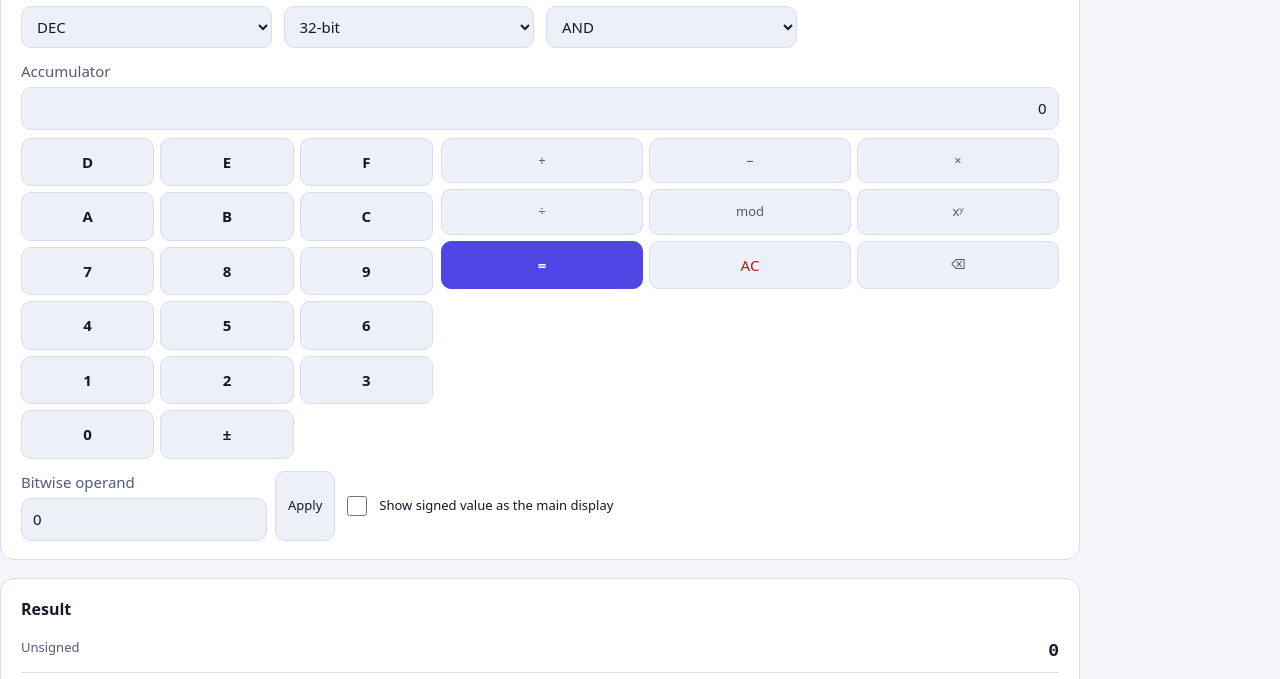
Test: programmer panel › switches the input base so hex digits can be typed
Select "HEX" in the dropdown labelled "Input base" at (146, 26), box [21,6,272,48]
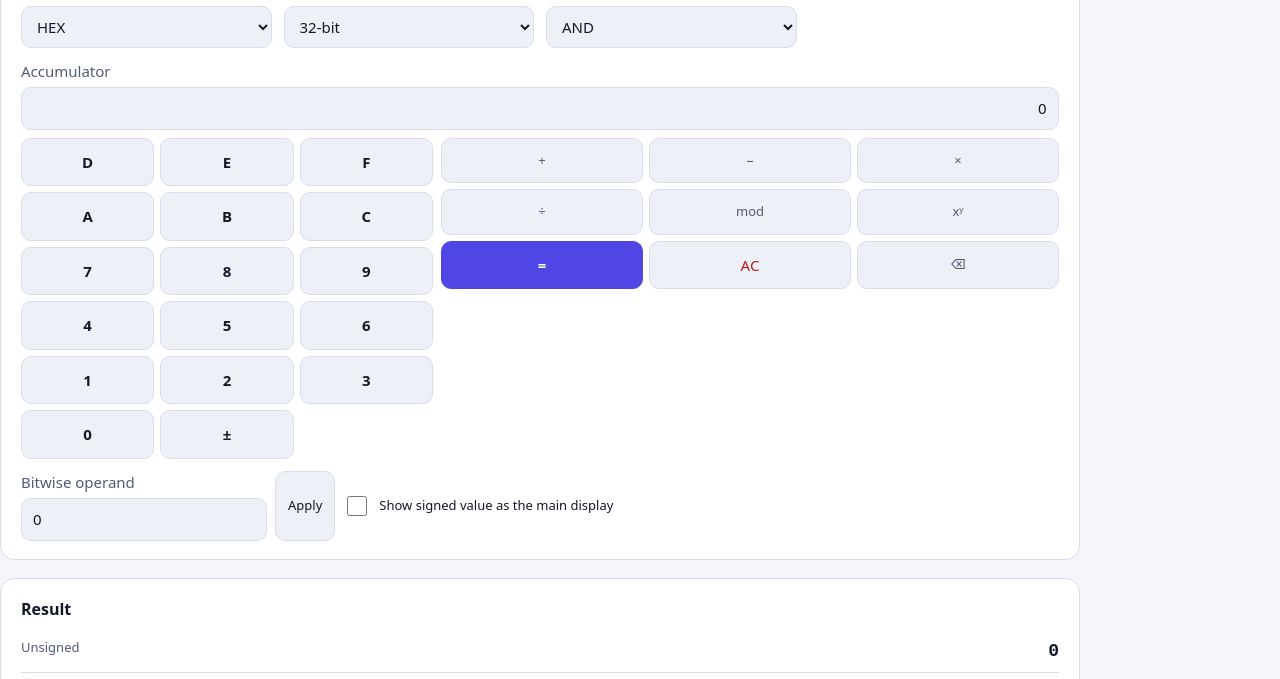
Replace the text in the field named "Integer input" with "f" at (540, 108), box [21,87,1059,130]
(page scrolled)
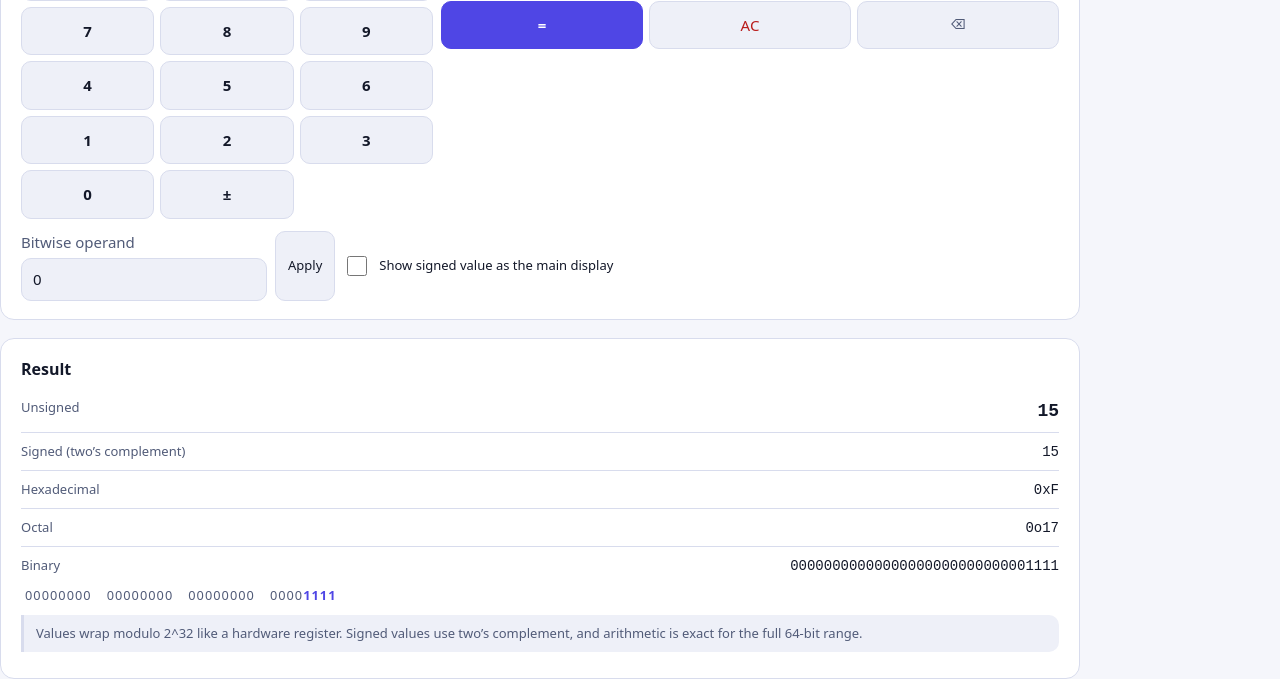
Expected: the text "0xF" is shown, [1034,482,1059,498]
